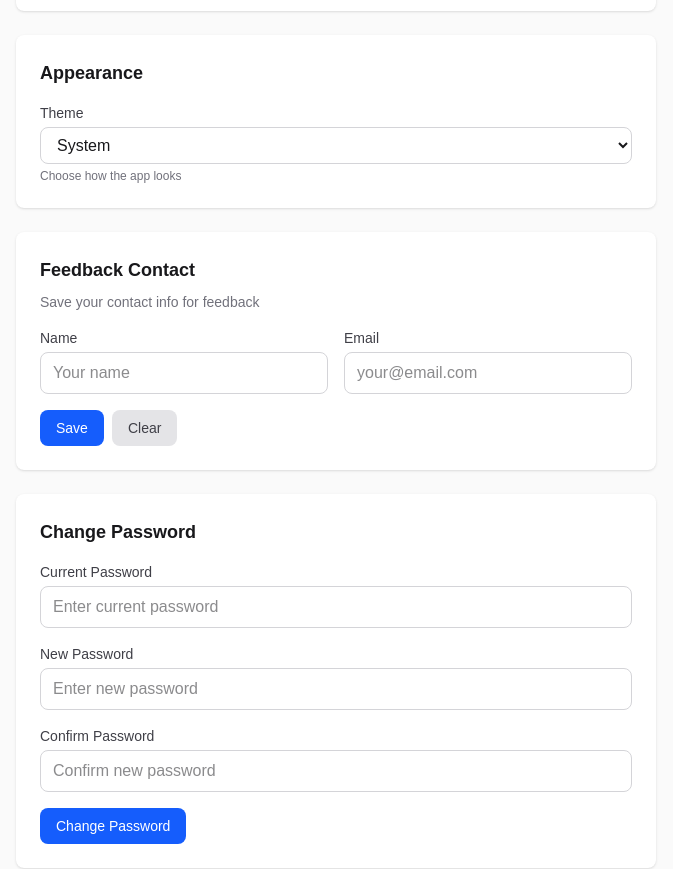
it: SettingsPage › Change password section › shows error when current password is empty
The width and height of the screenshot is (673, 869).
(page scrolled)
Click the button "Change Password" at (113, 826), box [40,808,186,844]
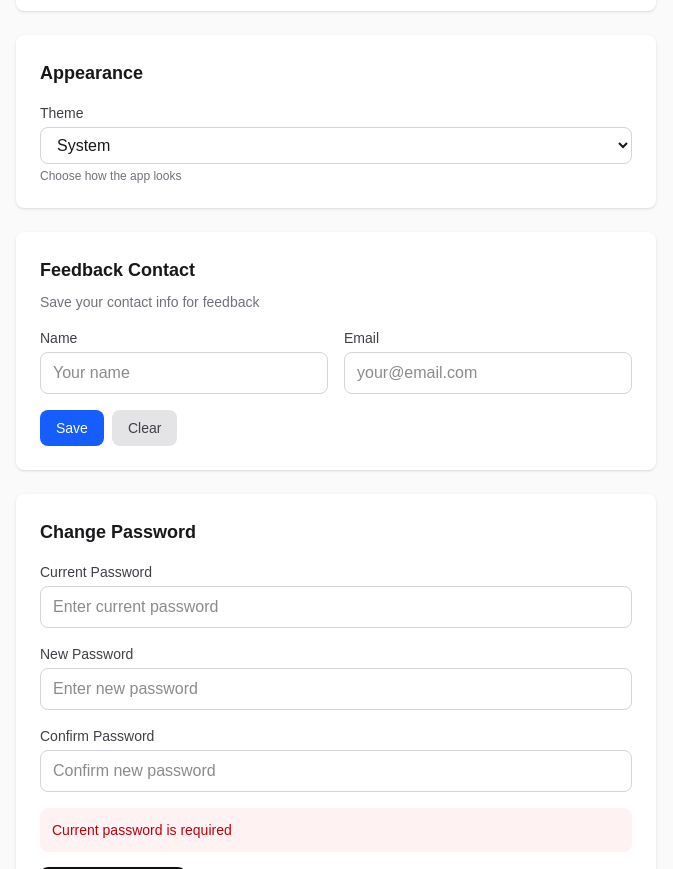
Expected: the text "Current password is required" is shown, [40,808,632,852]
